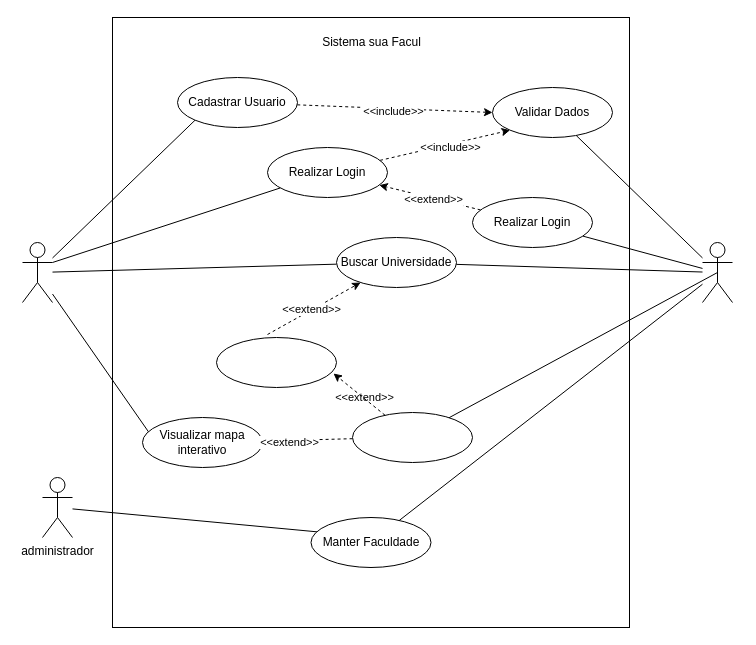
Image size: 756x645. Some labels were removed from this diagram. Each missing label, with the centre of its shape:
"Favoritar Faculdade" goes at pixel 412 437.
"Filtrar Universidade" goes at pixel 276 362.
"Sistema" goes at pixel 717 272.
"Usuario" goes at pixel 37 272.
